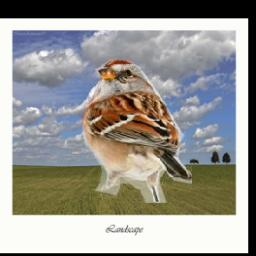Sparrow: (81, 58, 193, 203)
